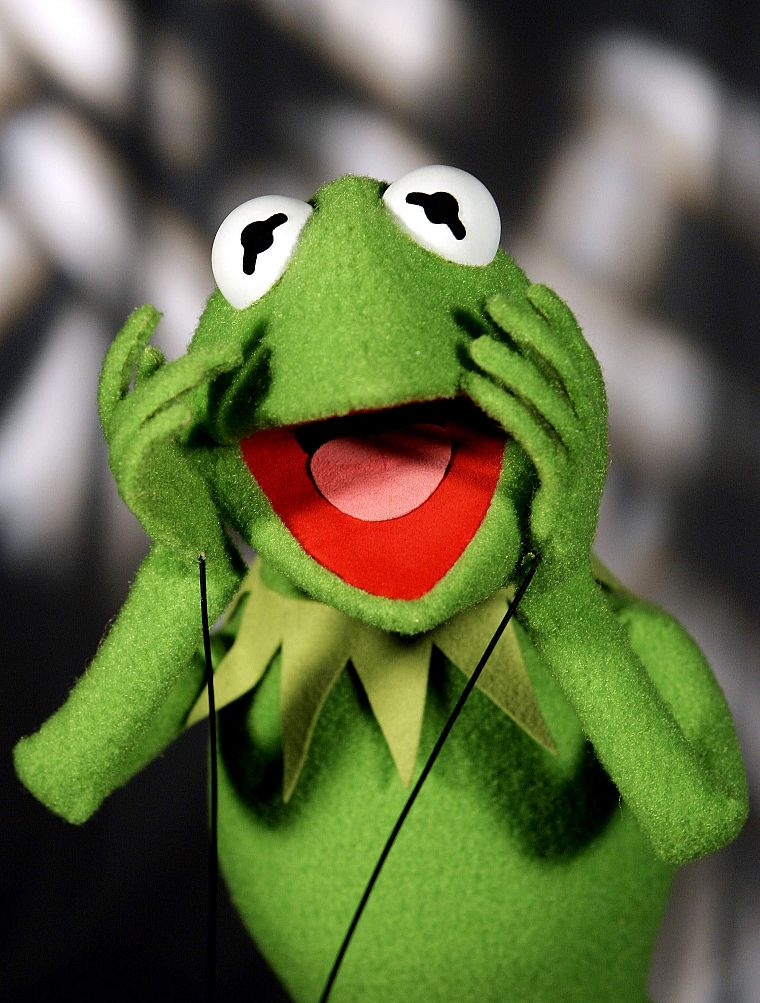kermit: (159, 162, 607, 649)
